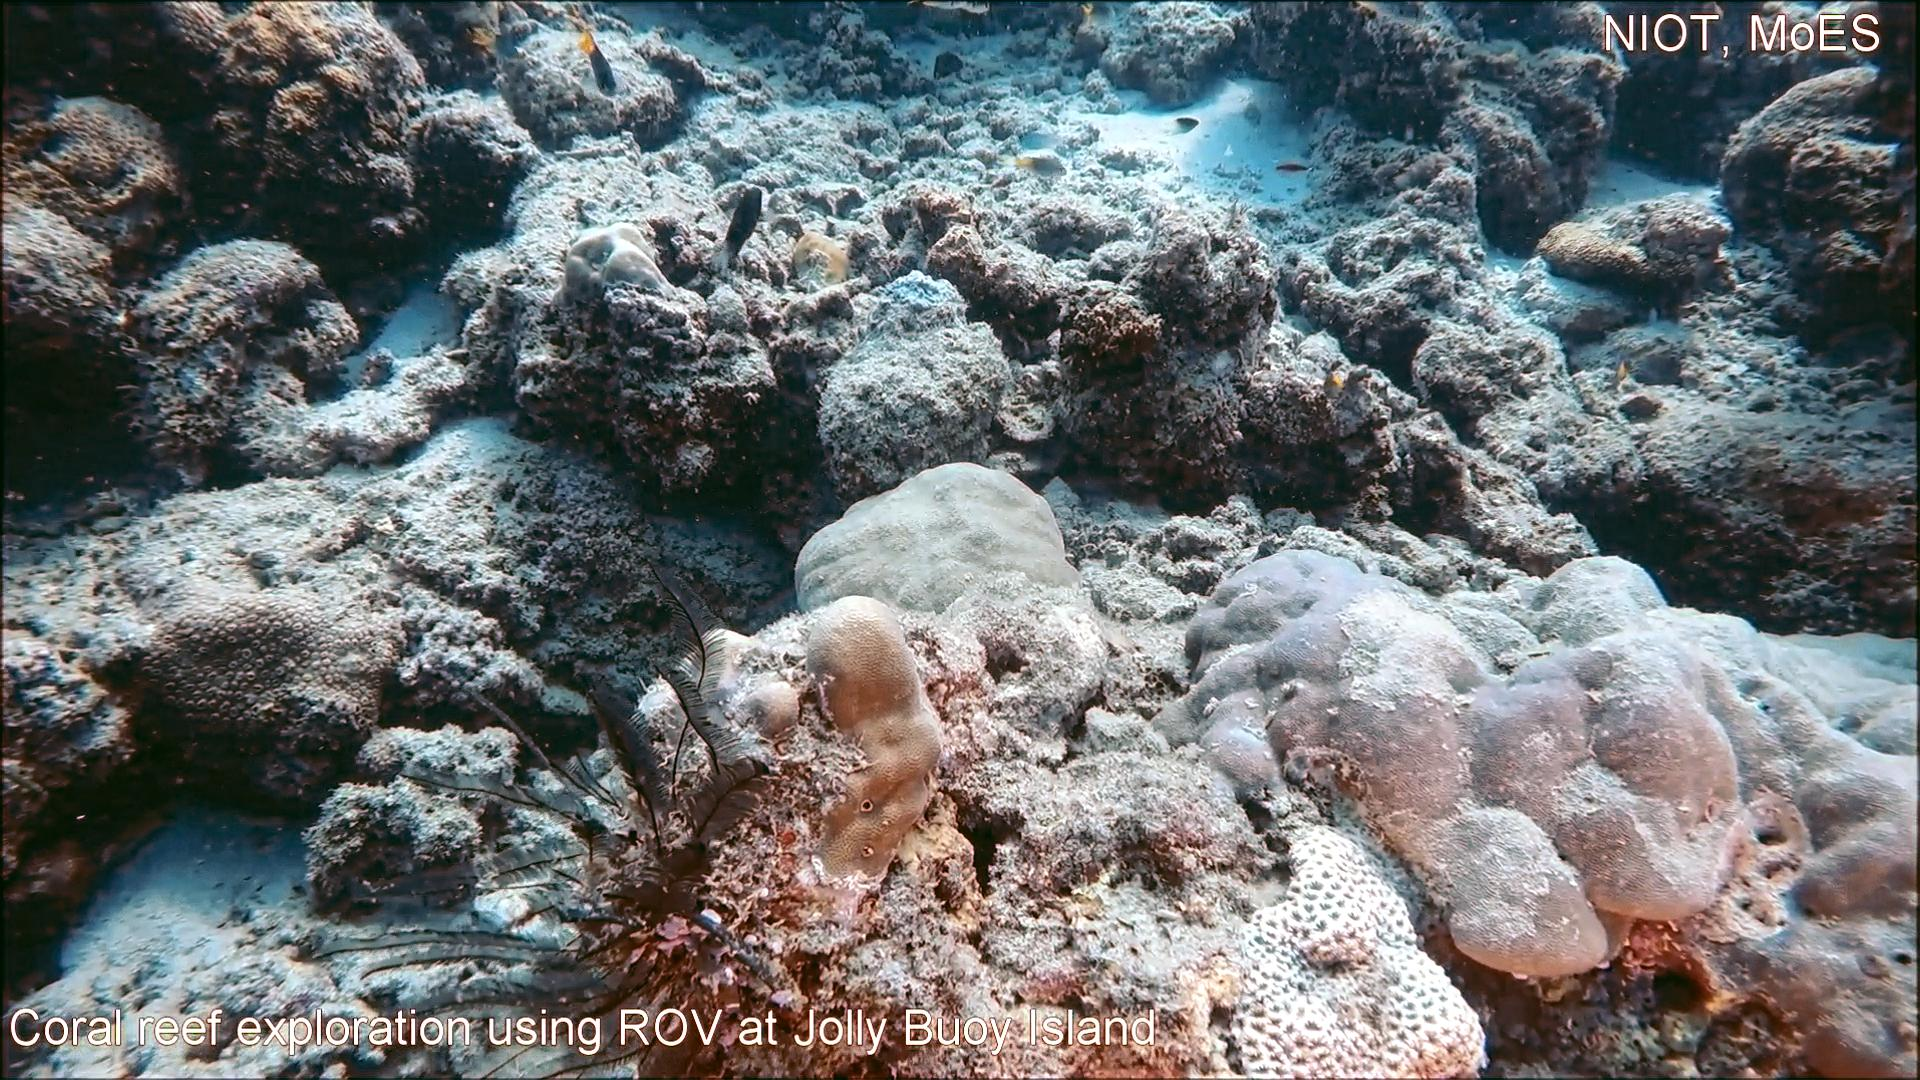Feather star-Crinoid star: (306, 550, 789, 1080)
Goniastrea-Goniastrea pectinata: (1224, 814, 1496, 1080)
Porites-Porites pukoensis: (1584, 544, 1920, 1080)
Turbinaria-Turbinaria stellulata: (128, 588, 413, 762)
